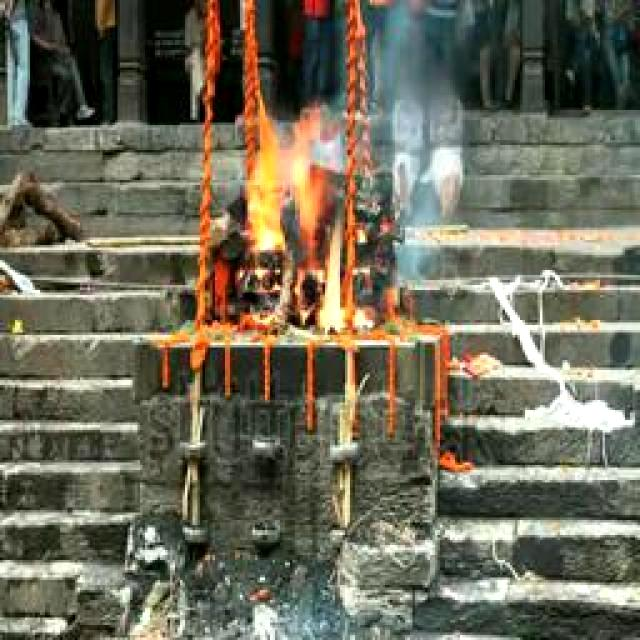fire: (242, 100, 371, 332)
